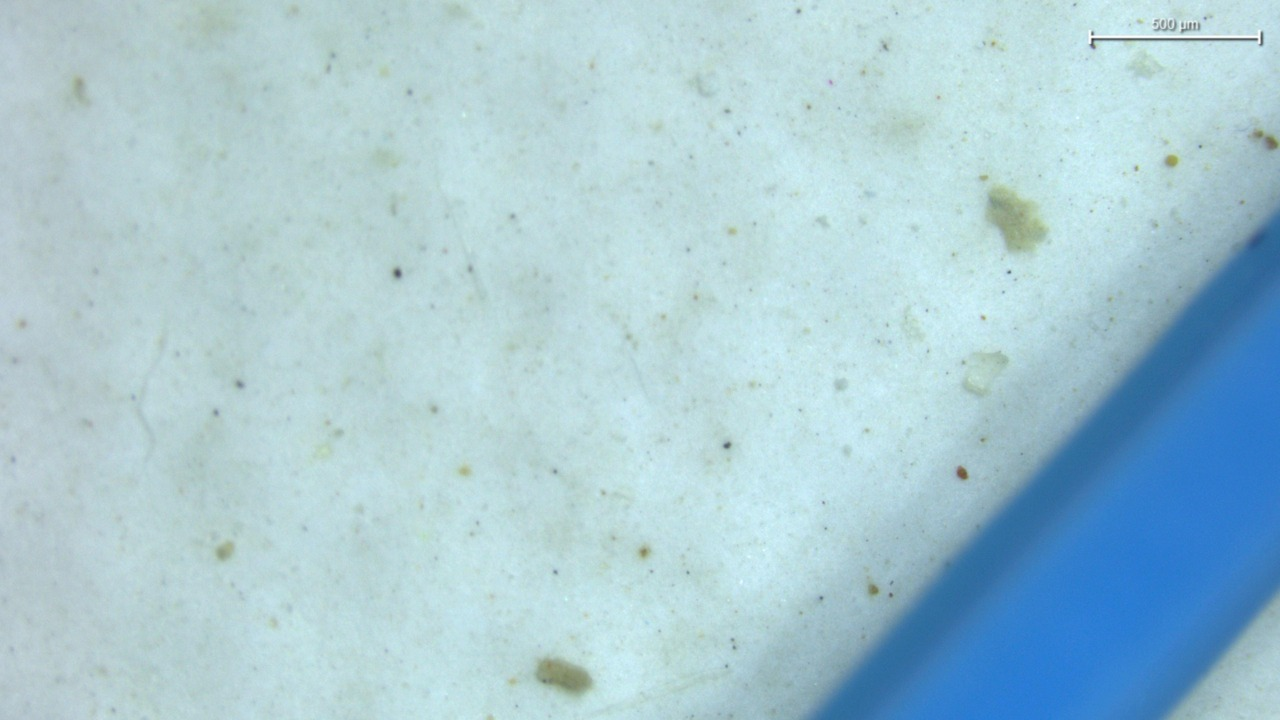microplastic_fragment: (987, 185, 1048, 251), (963, 351, 1009, 396)
